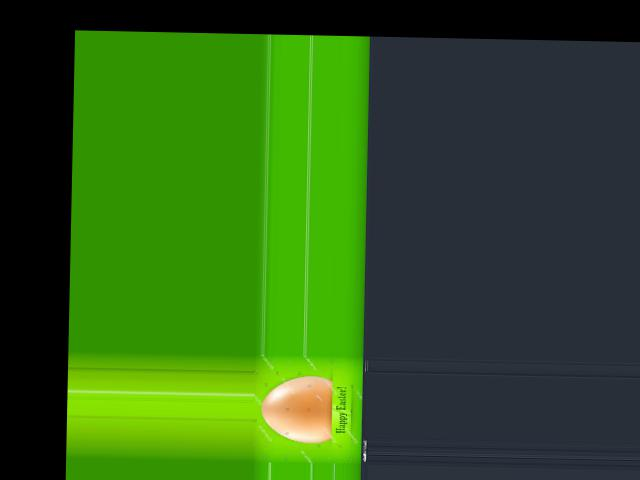egg: (260, 375, 332, 442)
